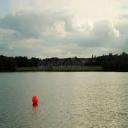red: (32, 96, 38, 104)
